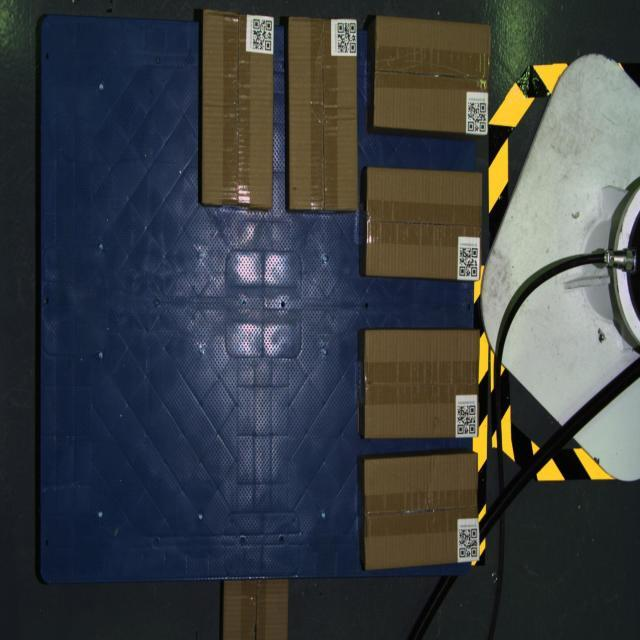box: (202, 10, 274, 208), (374, 15, 491, 134), (364, 452, 480, 570), (289, 17, 358, 211), (366, 168, 482, 282), (364, 330, 480, 439)
